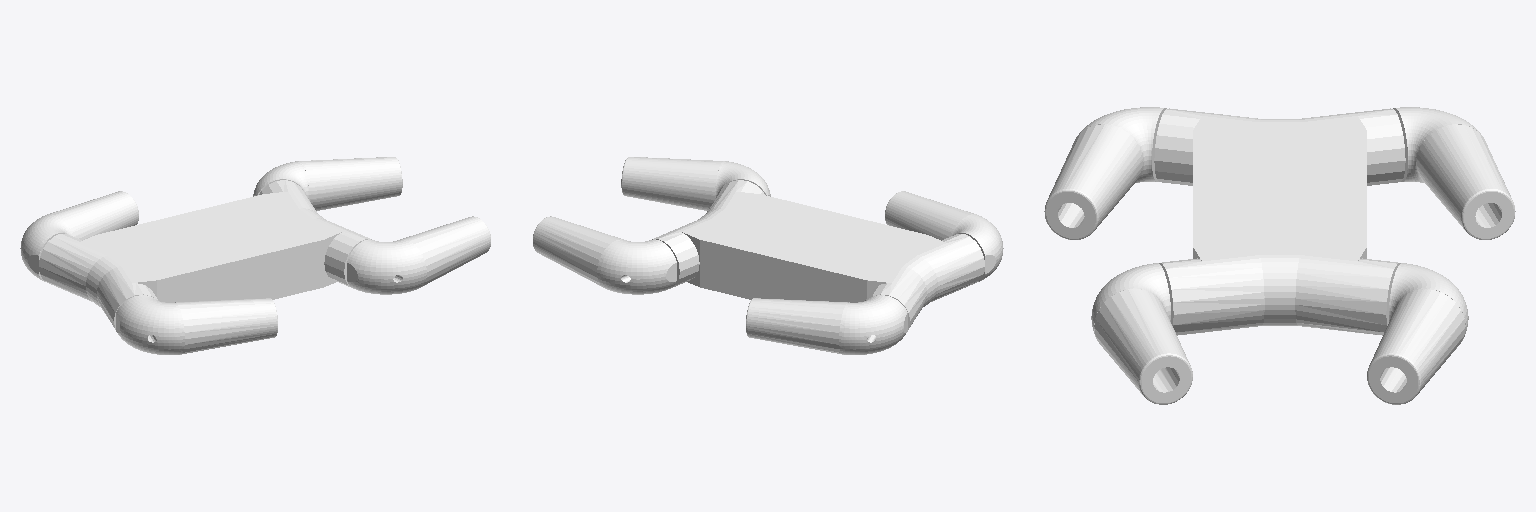
URDF robot description (15_degree):
<?xml version="1.0" encoding="utf-8"?>
<!-- This URDF was automatically created by SolidWorks to URDF Exporter! Originally created by [author] ([email redacted]) 
     Commit Version: 1.5.1-0-g916b5db  Build Version: 1.5.7152.31018
     For more information, please see http://wiki.ros.org/sw_urdf_exporter -->
<robot
  name="15_degree">
  <link
    name="base_link">
    <inertial>
      <origin
        xyz="-6.9389E-18 3.5249E-08 -1.0482E-09"
        rpy="0 0 0" />
      <mass
        value="2.942" />
      <inertia
        ixx="0.0100015"
        ixy="-9.4129E-10"
        ixz="-1.5376E-10"
        iyy="0.0433108"
        iyz="8.6319E-18"
        izz="0.0509133" />
    </inertial>
    <visual>
      <origin
        xyz="0 0 0"
        rpy="0 0 0" />
      <geometry>
        <mesh
          filename="package://15_degree/meshes/base_link.STL" />
      </geometry>
      <material
        name="">
        <color
          rgba="1 1 1 1" />
      </material>
    </visual>
    <collision>
      <origin
        xyz="0 0 0"
        rpy="0 0 0" />
      <geometry>
        <mesh
          filename="package://15_degree/meshes/base_link.STL" />
      </geometry>
    </collision>
  </link>
  <link
    name="left_front_link">
    <inertial>
      <origin
        xyz="-1.8154E-08 0.064214 -0.020075"
        rpy="0 0 0" />
      <mass
        value="0.092" />
      <inertia
        ixx="0.0002604"
        ixy="5.3489E-10"
        ixz="9.2918E-10"
        iyy="0.0000550"
        iyz="-0.0000316"
        izz="0.0002551" />
    </inertial>
    <visual>
      <origin
        xyz="0 0 0"
        rpy="0 0 0" />
      <geometry>
        <mesh
          filename="package://15_degree/meshes/left_front_link.STL" />
      </geometry>
      <material
        name="">
        <color
          rgba="1 1 1 1" />
      </material>
    </visual>
    <collision>
      <origin
        xyz="0 0 0"
        rpy="0 0 0" />
      <geometry>
        <mesh
          filename="package://15_degree/meshes/left_front_link.STL" />
      </geometry>
    </collision>
  </link>
  <joint
    name="left_front_leg"
    type="continuous">
    <origin
      xyz="0.15666 0.09949 0"
      rpy="1.5708 1.5708 0" />
    <parent
      link="base_link" />
    <child
      link="left_front_link" />
    <axis
      xyz="0 0.25882 -0.96593" />
    <limit
      effort="5"
      velocity="487" />
  </joint>
  <link
    name="right_front_link">
    <inertial>
      <origin
        xyz="1.8154E-08 0.064214 0.020075"
        rpy="0 0 0" />
      <mass
        value="0.092" />
      <inertia
        ixx="0.0002604"
        ixy="-5.3489E-10"
        ixz="9.2918E-10"
        iyy="0.0000550"
        iyz="0.0000316"
        izz="0.0002551" />
    </inertial>
    <visual>
      <origin
        xyz="0 0 0"
        rpy="0 0 0" />
      <geometry>
        <mesh
          filename="package://15_degree/meshes/right_front_link.STL" />
      </geometry>
      <material
        name="">
        <color
          rgba="1 1 1 1" />
      </material>
    </visual>
    <collision>
      <origin
        xyz="0 0 0"
        rpy="0 0 0" />
      <geometry>
        <mesh
          filename="package://15_degree/meshes/right_front_link.STL" />
      </geometry>
    </collision>
  </link>
  <joint
    name="right_front_leg"
    type="continuous">
    <origin
      xyz="0.156658361645559 -0.0994903601077745 0"
      rpy="1.5707963267949 1.5707963267949 0" />
    <parent
      link="base_link" />
    <child
      link="right_front_link" />
    <axis
      xyz="0 0.258819045102515 0.96592582628907" />
    <limit
      effort="5"
      velocity="487" />
  </joint>
  <link
    name="right_back_link">
    <inertial>
      <origin
        xyz="8.6491E-08 0.056834 0.03601"
        rpy="0 0 0" />
      <mass
        value="0.092" />
      <inertia
        ixx="0.0002604"
        ixy="-5.465E-10"
        ixz="2.5247E-10"
        iyy="0.0000526"
        iyz="-2.27E-05"
        izz="0.0002575" />
    </inertial>
    <visual>
      <origin
        xyz="0 0 0"
        rpy="0 0 0" />
      <geometry>
        <mesh
          filename="package://15_degree/meshes/right_back_link.STL" />
      </geometry>
      <material
        name="">
        <color
          rgba="1 1 1 1" />
      </material>
    </visual>
    <collision>
      <origin
        xyz="0 0 0"
        rpy="0 0 0" />
      <geometry>
        <mesh
          filename="package://15_degree/meshes/right_back_link.STL" />
      </geometry>
    </collision>
  </link>
  <joint
    name="right_back_leg"
    type="continuous">
    <origin
      xyz="-0.15666 -0.09949 0"
      rpy="1.8326 1.5708 0" />
    <parent
      link="base_link" />
    <child
      link="right_back_link" />
    <axis
      xyz="0 0 1" />
    <limit
      effort="5"
      velocity="487" />
  </joint>
  <link
    name="left_back_link">
    <inertial>
      <origin
        xyz="-8.6491E-08 0.045577 -0.049493"
        rpy="0 0 0" />
      <mass
        value="0.092" />
      <inertia
        ixx="0.0002604"
        ixy="5.9322E-10"
        ixz="1.0243E-10"
        iyy="0.0000777"
        iyz="0.0000709"
        izz="0.0002325" />
    </inertial>
    <visual>
      <origin
        xyz="0 0 0"
        rpy="0 0 0" />
      <geometry>
        <mesh
          filename="package://15_degree/meshes/left_back_link.STL" />
      </geometry>
      <material
        name="">
        <color
          rgba="1 1 1 1" />
      </material>
    </visual>
    <collision>
      <origin
        xyz="0 0 0"
        rpy="0 0 0" />
      <geometry>
        <mesh
          filename="package://15_degree/meshes/left_back_link.STL" />
      </geometry>
    </collision>
  </link>
  <joint
    name="left_back_leg"
    type="continuous">
    <origin
      xyz="-0.15666 0.09949 0"
      rpy="1.5708 1.5708 0" />
    <parent
      link="base_link" />
    <child
      link="left_back_link" />
    <axis
      xyz="0 -0.25882 -0.96593" />
    <limit
      effort="5"
      velocity="487" />
  </joint>
</robot>

--- Render facts (derived) ---
3 views of the same robot in one strip: view 1: azimuth 30°, elevation 25°; view 2: azimuth 150°, elevation 25°; view 3: azimuth 270°, elevation 25° (orthographic).
Robot: 15_degree — 5 links, 4 joints (4 continuous); root link base_link; default pose: every joint at zero.
Visible links, largest first — view 1: base_link, right_back_link, right_front_link, left_front_link, left_back_link; view 2: base_link, left_back_link, left_front_link, right_front_link, right_back_link; view 3: base_link, right_back_link, left_back_link, left_front_link, right_front_link.
Boxes of the visible links, x1,y1,x2,y2 form: base_link: [39, 180, 371, 329]; right_back_link: [116, 295, 277, 354]; right_front_link: [347, 216, 490, 294]; left_front_link: [253, 157, 402, 210]; left_back_link: [20, 191, 138, 281]; base_link: [652, 180, 984, 329]; left_back_link: [746, 295, 907, 354]; left_front_link: [533, 216, 676, 294]; right_front_link: [621, 157, 770, 210]; right_back_link: [885, 191, 1003, 281]; base_link: [1154, 108, 1405, 335]; right_back_link: [1044, 107, 1166, 239]; left_back_link: [1393, 107, 1515, 239]; left_front_link: [1367, 263, 1468, 404]; right_front_link: [1091, 263, 1192, 404].
Size in the robot's own frame: 0.5159 by 0.4041 by 0.064 metres.
5 mesh visuals loaded from 5 distinct referenced files (5 binary STL).